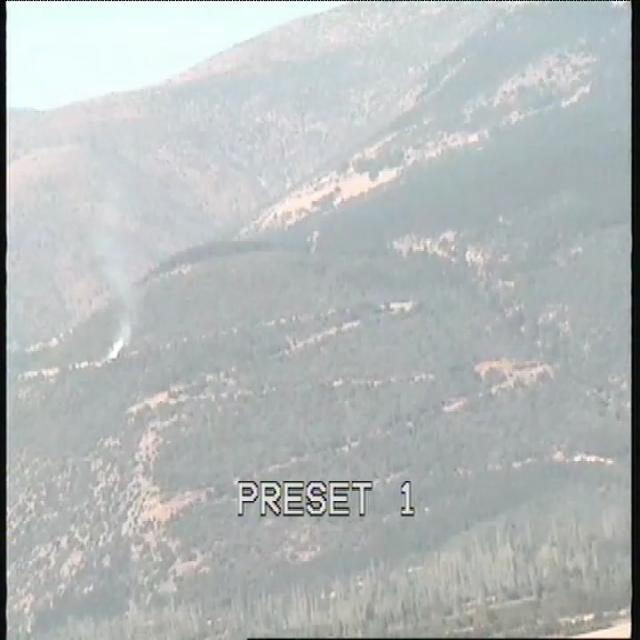smoke: (105, 318, 139, 363)
